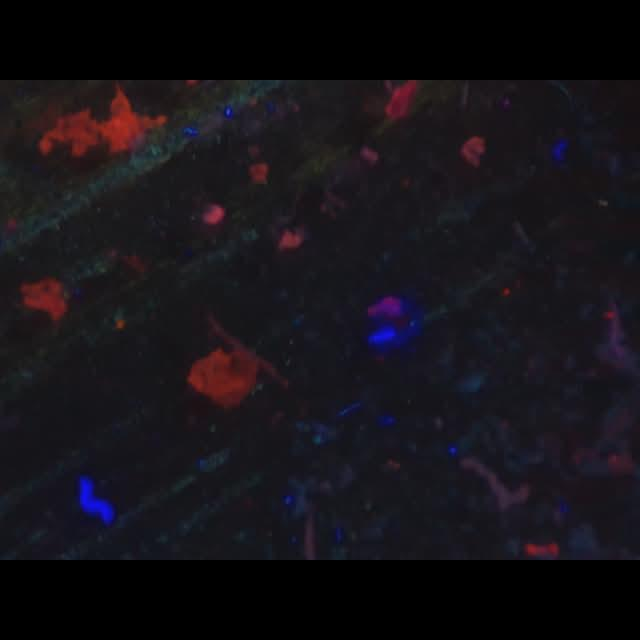Fibre: (18, 278, 70, 322)
